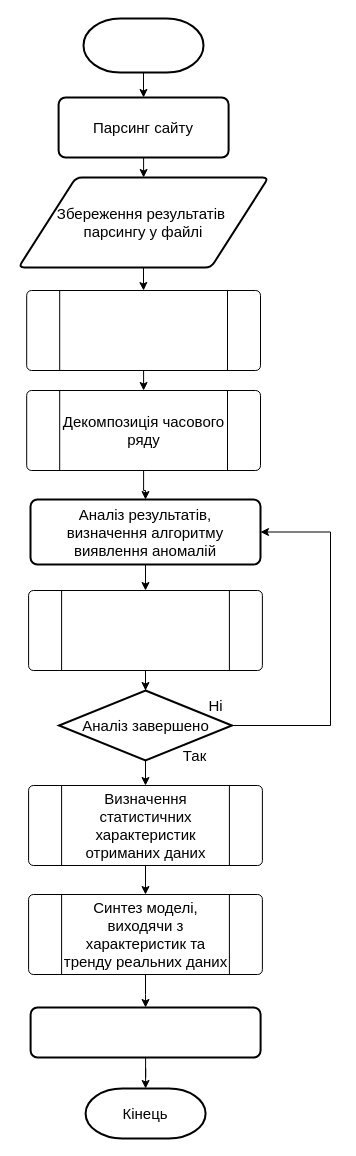
Image size: 356x1156. Some labels were removed from this diagram. The shapes that lost their labels are listed below. From the top down, each one's centre as x and y in pixels, then its label:
[143,45]: Початок
[143,330]: Візуалізація реальних даних, їх тренду, емпіричного розподілу частот
[145,630]: Нормалізація даних та імплементація попереднього алгоритму
[145,1032]: Аналіз отриманих результатів
